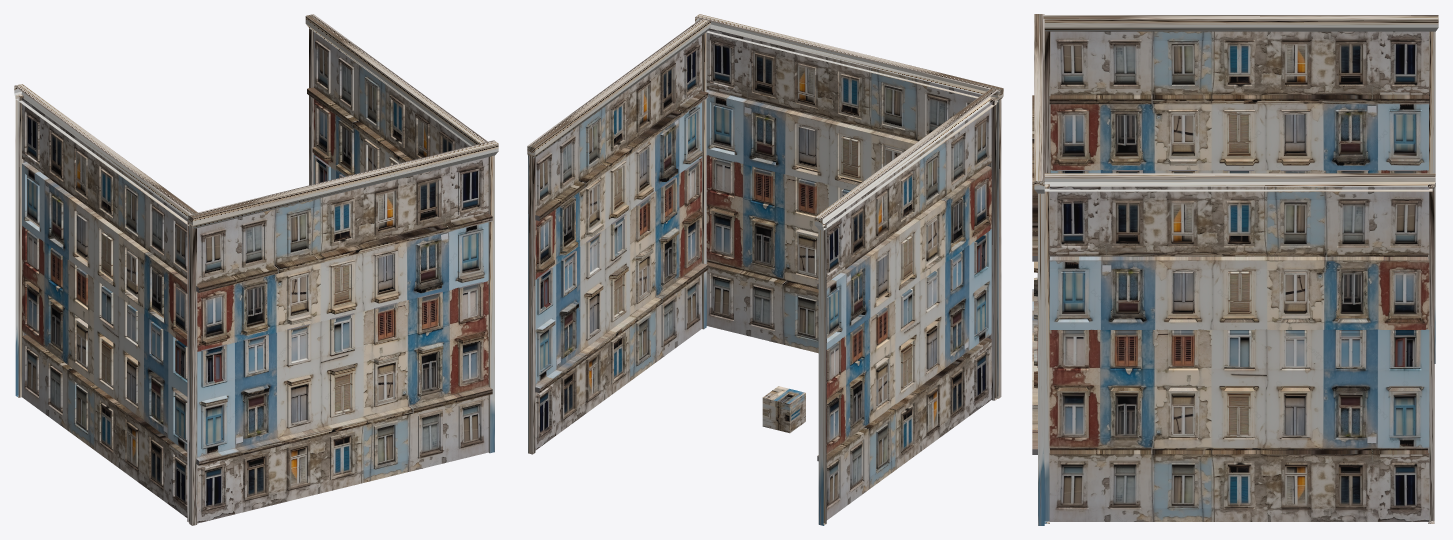
Rendered from GEDUNGTEST.fbx.
3 renders of one model, left to right at view 1: azimuth 30°, elevation 25°; view 2: azimuth 150°, elevation 25°; view 3: azimuth 270°, elevation 25°, orthographic. The views are drawn at different scales.
Parts seen in each view (by area): view 1: Cube.004; view 2: Cube.004; view 3: Cube.004.
Part boxes in pixels (x1,y1,x2,y2): Cube.004: (14,14,498,525); Cube.004: (527,14,1003,525); Cube.004: (1032,14,1438,525).
Size of the model in its own units: 186 by 188 by 191.
1 material, 1 textured.
